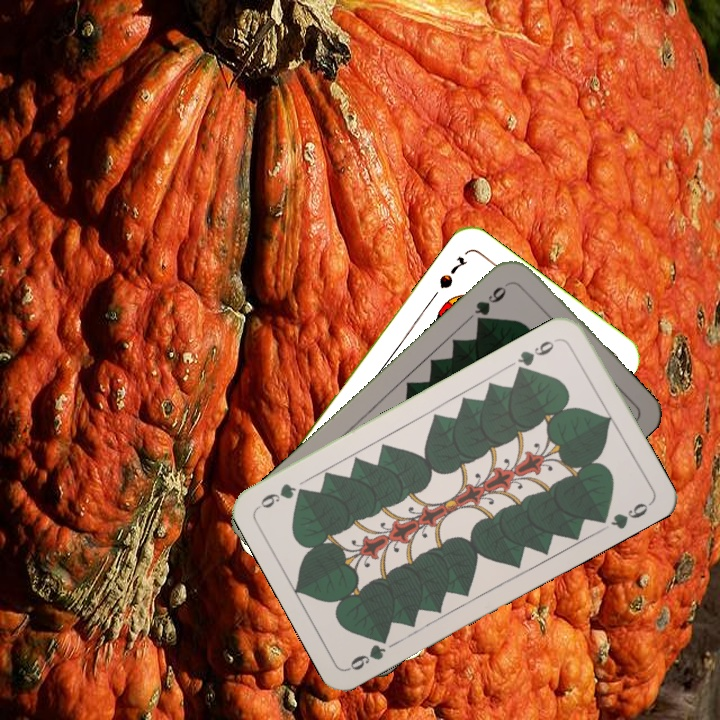G9: (470, 278, 513, 328), (512, 334, 562, 376), (345, 630, 392, 673)
S7: (435, 252, 470, 291)
